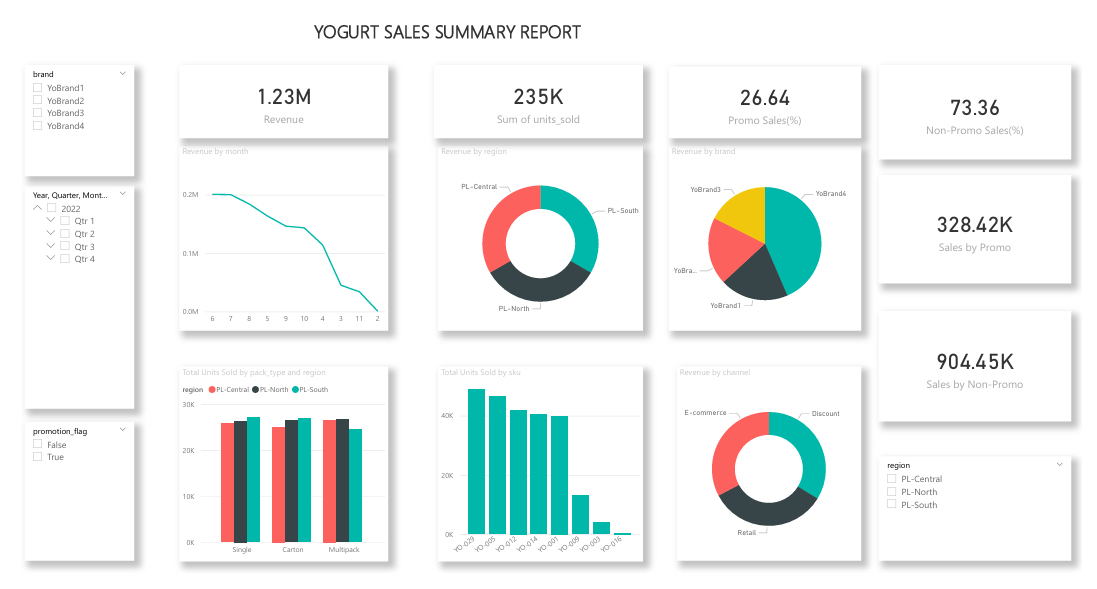

What the dashboard file says about the page in this screenshot:
{"tool":"powerbi","page":{"name":"Page 1","canvas":[1600,900],"ordinal":0},"visuals":[{"type":"textbox","title":"YOGHURT SALES SU","box":[0,63.8,1269.9,75.6],"z":0},{"type":"lineChart","fields":{"Category":["Yoghurt_sales.month"],"Y":["Yoghurt_sales.Revenue"]},"box":[246.2,258.9,314.1,278],"z":1000},{"type":"clusteredColumnChart","fields":{"Y":["Yoghurt_sales.Total Units Sold"],"Category":["Yoghurt_sales.sku"]},"box":[634.5,589.9,307.7,292.8],"z":2000},{"type":"clusteredColumnChart","fields":{"Y":["Yoghurt_sales.Total Units Sold"],"Category":["Yoghurt_sales.pack_type"],"Series":["Yoghurt_sales.region"]},"box":[246.2,589.9,314.1,292.8],"z":3000},{"type":"donutChart","fields":{"Category":["Yoghurt_sales.region"],"Y":["Yoghurt_sales.Revenue"]},"box":[634.5,258.9,307.7,278],"z":4000},{"type":"pieChart","fields":{"Category":["Yoghurt_sales.brand"],"Y":["Yoghurt_sales.Revenue"]},"box":[980.4,258.9,288.6,278],"z":5000},{"type":"donutChart","fields":{"Category":["Yoghurt_sales.channel"],"Y":["Yoghurt_sales.Revenue"]},"box":[992.2,590,276.4,292.4],"z":6000},{"type":"slicer","fields":{"Values":["Yoghurt_sales.brand"]},"box":[14.2,138.2,164.8,166.6],"z":7000},{"type":"slicer","fields":{"Values":["Yoghurt_sales.date.Variation.Date Hierarchy.Year","Yoghurt_sales.date.Variation.Date Hierarchy.Quarter","Yoghurt_sales.date.Variation.Date Hierarchy.Month","Yoghurt_sales.date.Variation.Date Hierarchy.Day"]},"box":[14.2,318.9,164.8,334.9],"z":8000},{"type":"card","fields":{"Values":["Sum(Yoghurt_sales.units_sold)"]},"box":[628.1,137.9,314.1,110.3],"z":9000},{"type":"card","fields":{"Values":["Yoghurt_sales.Revenue"]},"box":[246.2,137.9,314.1,110.3],"z":10000},{"type":"slicer","fields":{"Values":["Yoghurt_sales.promotion_flag"]},"box":[14.2,673.3,164.8,209.1],"z":11000},{"type":"slicer","fields":{"Values":["Yoghurt_sales.region"]},"box":[1295.2,724.7,288.8,157.7],"z":12000},{"type":"card","fields":{"Values":["Yoghurt_sales.Promo Sales(%)"]},"box":[979.8,140,288.8,108.1],"z":12001},{"type":"card","fields":{"Values":["Yoghurt_sales.Non-Promo Sales(%)"]},"box":[1295.2,138.2,288.8,141.7],"z":12002},{"type":"card","fields":{"Values":["Yoghurt_sales.Sales by Promo"]},"box":[1295.2,303,288.8,163],"z":12003},{"type":"card","fields":{"Values":["Yoghurt_sales.Sales by Non-Promo"]},"box":[1295.2,506.8,288.8,166.6],"z":12004}]}

Visuals, with their boxes on the page's 1600x900 design canvas (x1, y1, x2, y2). These are canvas units, not pixel positions in the 1097x589 screenshot, which may show the page scaled, cropped or inside an application window:
"YOGHURT SALES SU" textbox: (0, 64, 1270, 139)
lineChart - Yoghurt_sales.month x Yoghurt_sales.Revenue: (246, 259, 560, 537)
clusteredColumnChart - Yoghurt_sales.Total Units Sold x Yoghurt_sales.sku: (634, 590, 942, 883)
clusteredColumnChart - Yoghurt_sales.Total Units Sold x Yoghurt_sales.pack_type: (246, 590, 560, 883)
donutChart - Yoghurt_sales.region x Yoghurt_sales.Revenue: (634, 259, 942, 537)
pieChart - Yoghurt_sales.brand x Yoghurt_sales.Revenue: (980, 259, 1269, 537)
donutChart - Yoghurt_sales.channel x Yoghurt_sales.Revenue: (992, 590, 1269, 882)
slicer - Yoghurt_sales.brand: (14, 138, 179, 305)
slicer - Yoghurt_sales.date.Variation.Date Hierarchy.Year x Yoghurt_sales.date.Variation.Date Hierarchy.Quarter: (14, 319, 179, 654)
card - Sum(Yoghurt_sales.units_sold): (628, 138, 942, 248)
card - Yoghurt_sales.Revenue: (246, 138, 560, 248)
slicer - Yoghurt_sales.promotion_flag: (14, 673, 179, 882)
slicer - Yoghurt_sales.region: (1295, 725, 1584, 882)
card - Yoghurt_sales.Promo Sales(%): (980, 140, 1269, 248)
card - Yoghurt_sales.Non-Promo Sales(%): (1295, 138, 1584, 280)
card - Yoghurt_sales.Sales by Promo: (1295, 303, 1584, 466)
card - Yoghurt_sales.Sales by Non-Promo: (1295, 507, 1584, 673)
